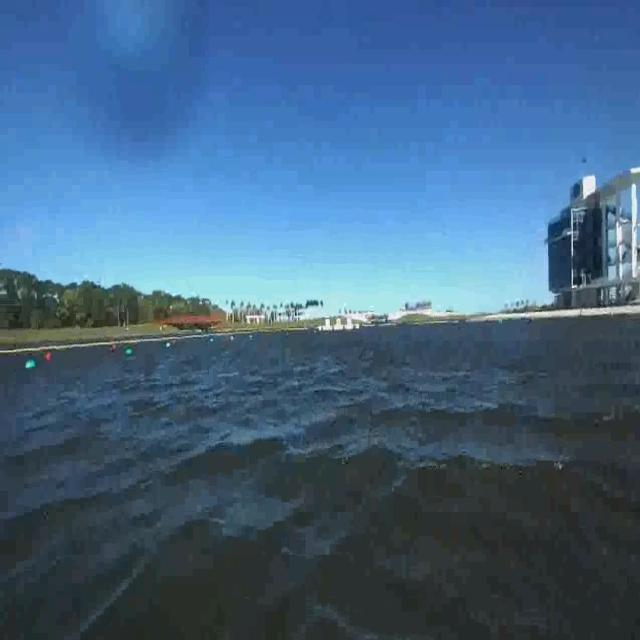green-buoy: (26, 360, 38, 369)
